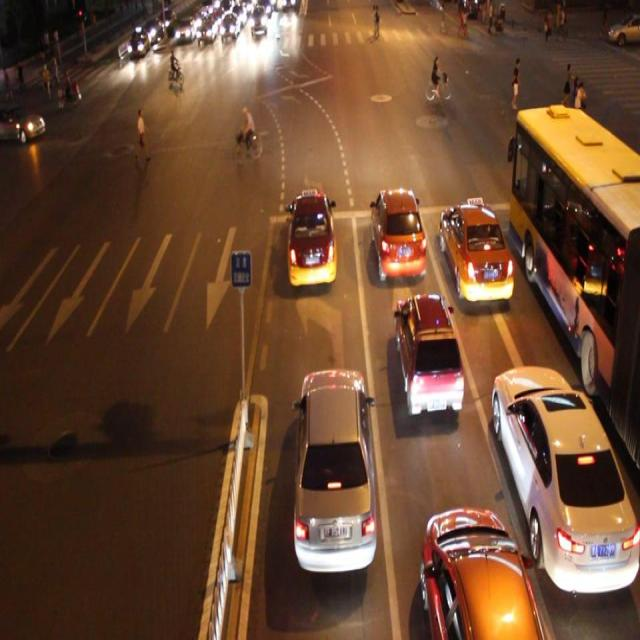car: (490, 358, 640, 596), (295, 367, 375, 573), (418, 507, 541, 640), (392, 291, 463, 417), (439, 199, 512, 305), (368, 188, 426, 280), (284, 189, 338, 287), (1, 104, 46, 145)
van: (510, 104, 640, 470)
